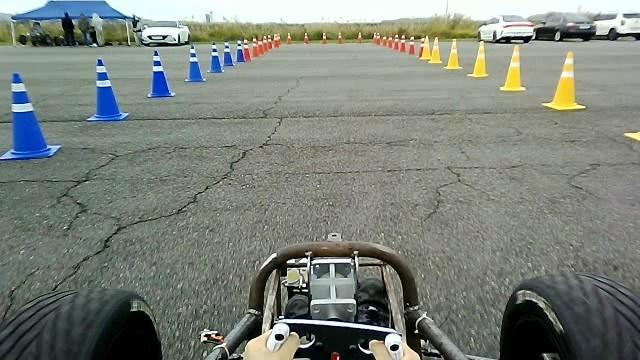blue cone: (0, 71, 61, 160), (85, 57, 128, 121), (146, 49, 175, 97), (184, 44, 206, 82), (206, 41, 223, 73), (222, 40, 234, 66), (235, 40, 246, 62)
red cone: (242, 38, 252, 61), (251, 35, 260, 56), (418, 36, 426, 58), (407, 36, 415, 55), (398, 35, 406, 52)
yellow cone: (541, 50, 586, 110), (499, 44, 526, 91), (466, 40, 488, 77), (443, 38, 462, 69), (428, 36, 442, 63), (418, 35, 431, 60)
